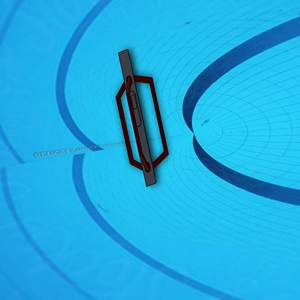submarine: (113, 48, 170, 183)
